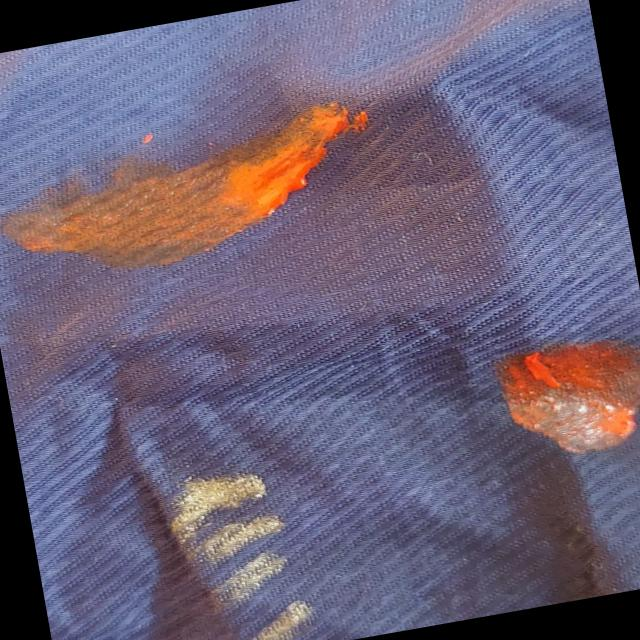Stain: (0, 83, 391, 290), (156, 458, 320, 640), (491, 327, 640, 466)
